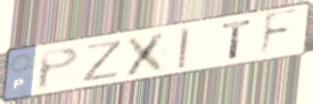F: (256, 6, 302, 61)
I: (175, 25, 192, 71)
P: (36, 45, 83, 92)
T: (220, 17, 255, 61)
X: (121, 29, 172, 78)
Z: (80, 38, 126, 85)
